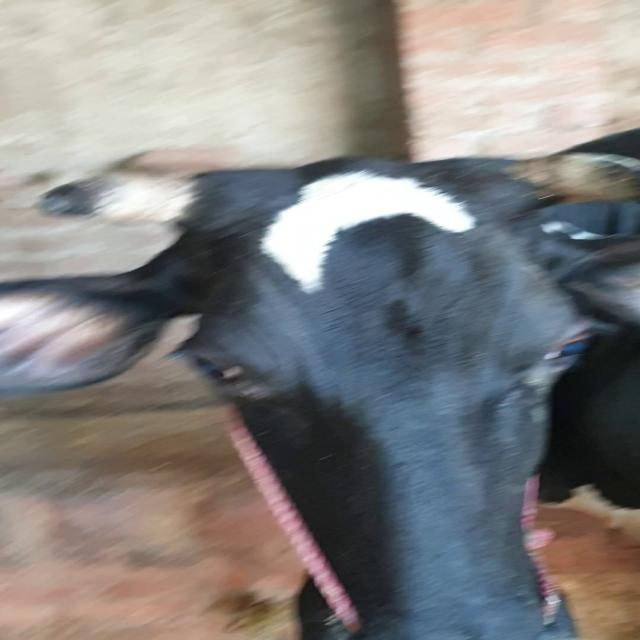cowFace: (50, 156, 639, 640)
